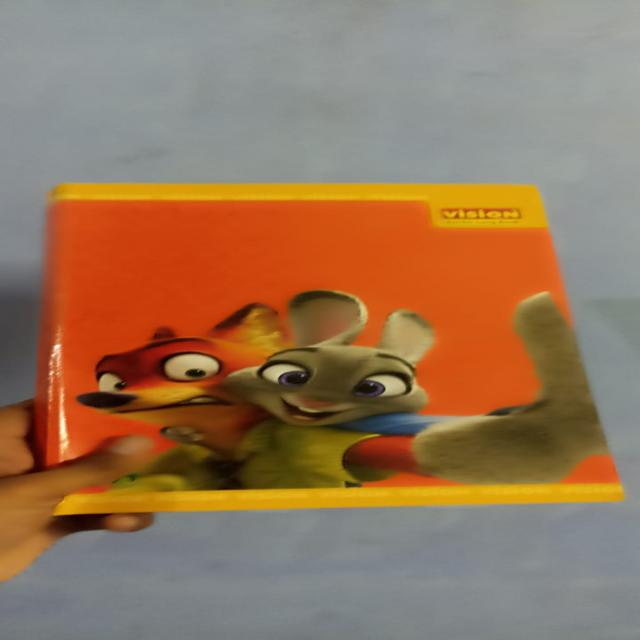book: (36, 181, 633, 517)
